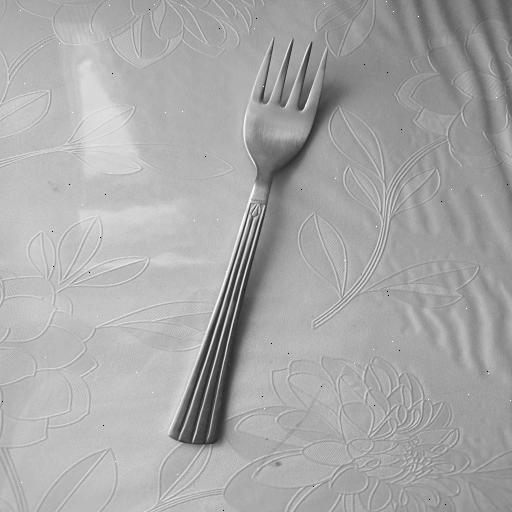fork: (163, 38, 339, 448)
